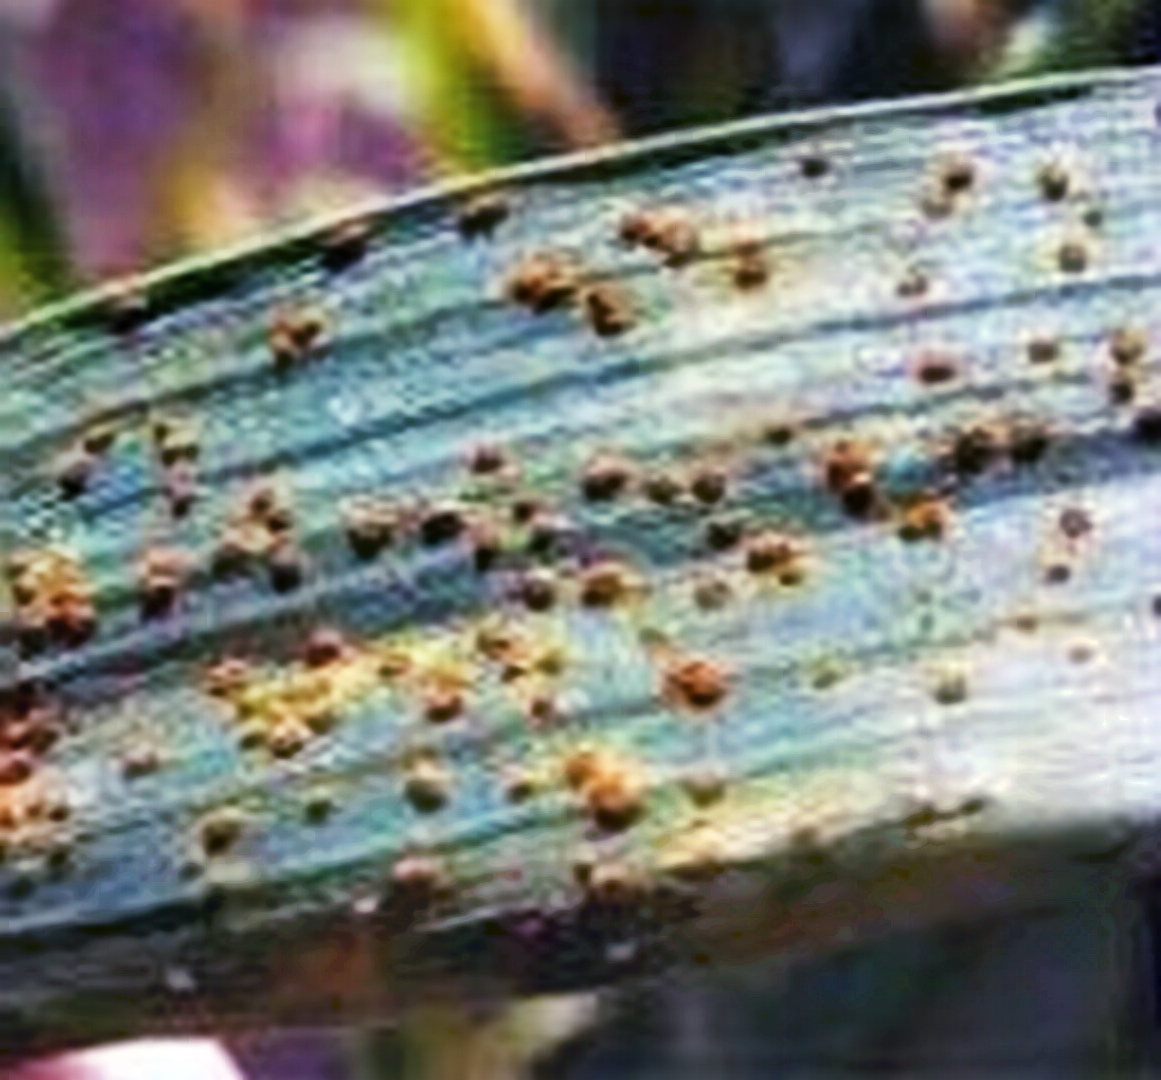Leaf Rust: (75, 88, 954, 914)
